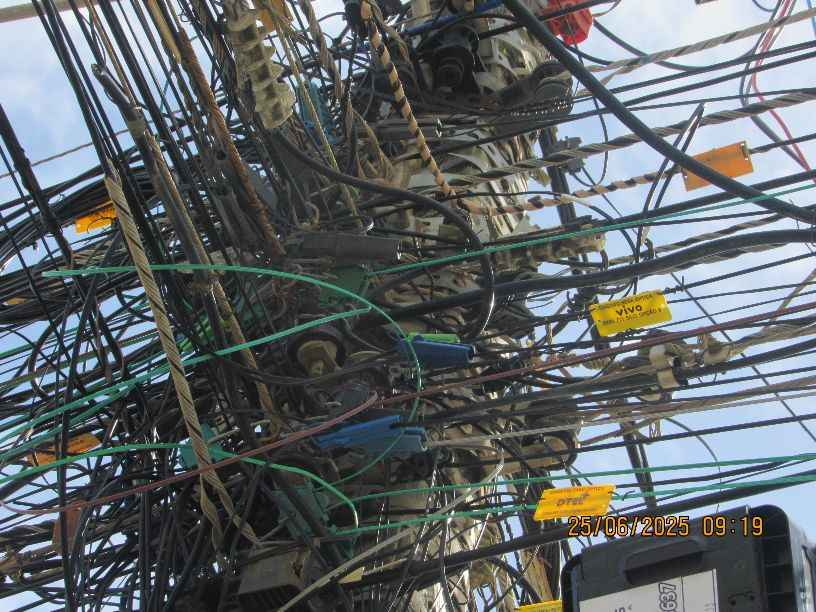caixa_derivacao: (529, 494, 813, 608)
coaxial: (467, 138, 800, 206), (519, 38, 816, 90)
drop: (336, 491, 704, 521), (317, 401, 527, 445), (384, 319, 560, 363), (363, 448, 613, 476)
